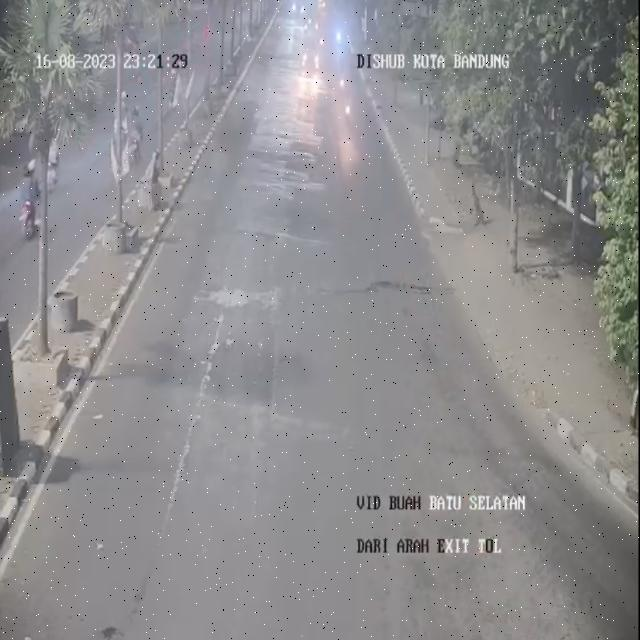cars: (298, 26, 324, 79)
motorcycle: (338, 88, 355, 123)
